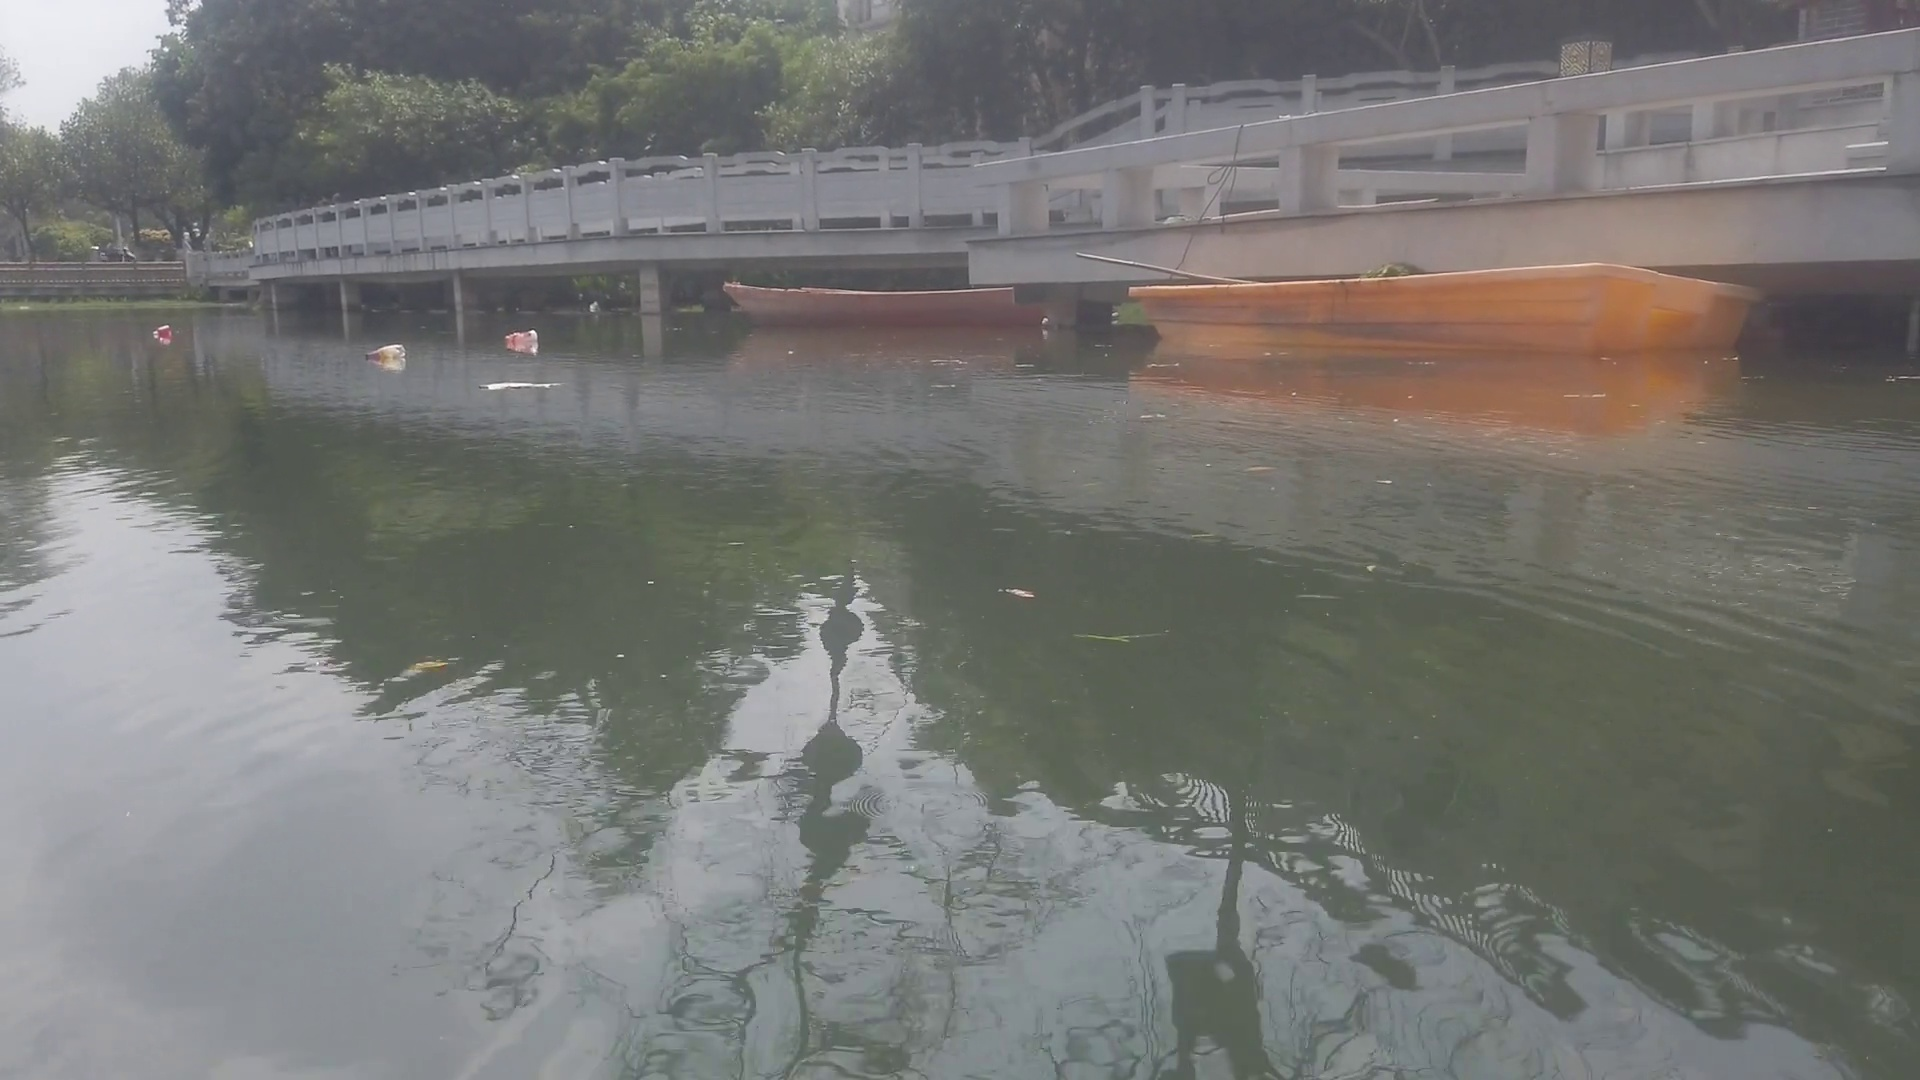bottle: (501, 324, 537, 347), (365, 342, 406, 357), (150, 324, 173, 339)
paper: (483, 378, 570, 397)
